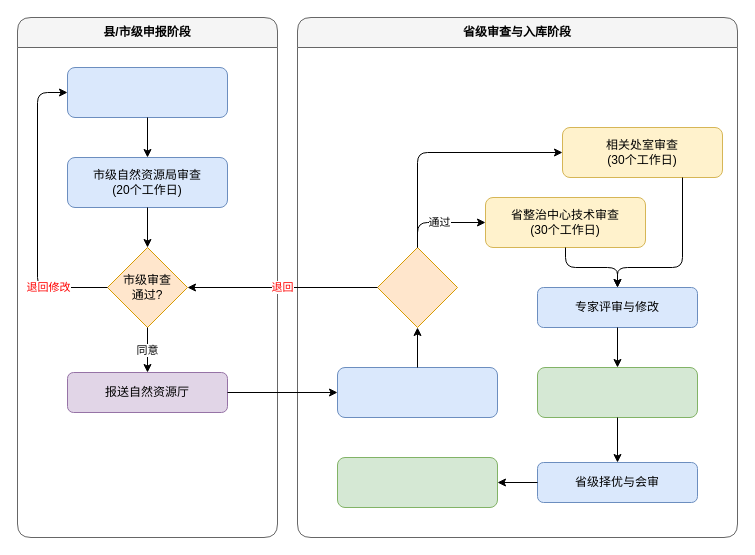
This 755x555 diagram has some shape labels left out. The shapes that lost their labels are listed below. From the top down, each one's centre as x and y in pixels, then its label:
At (x=147, y=92): "县级编制实施方案 及政府初审".
At (x=417, y=287): "要件 通过?".
At (x=417, y=392): "修复处要件审查 (10个工作日)".
At (x=617, y=392): "纳入省级项目储备库".
At (x=417, y=482): "批复并入实施库".
